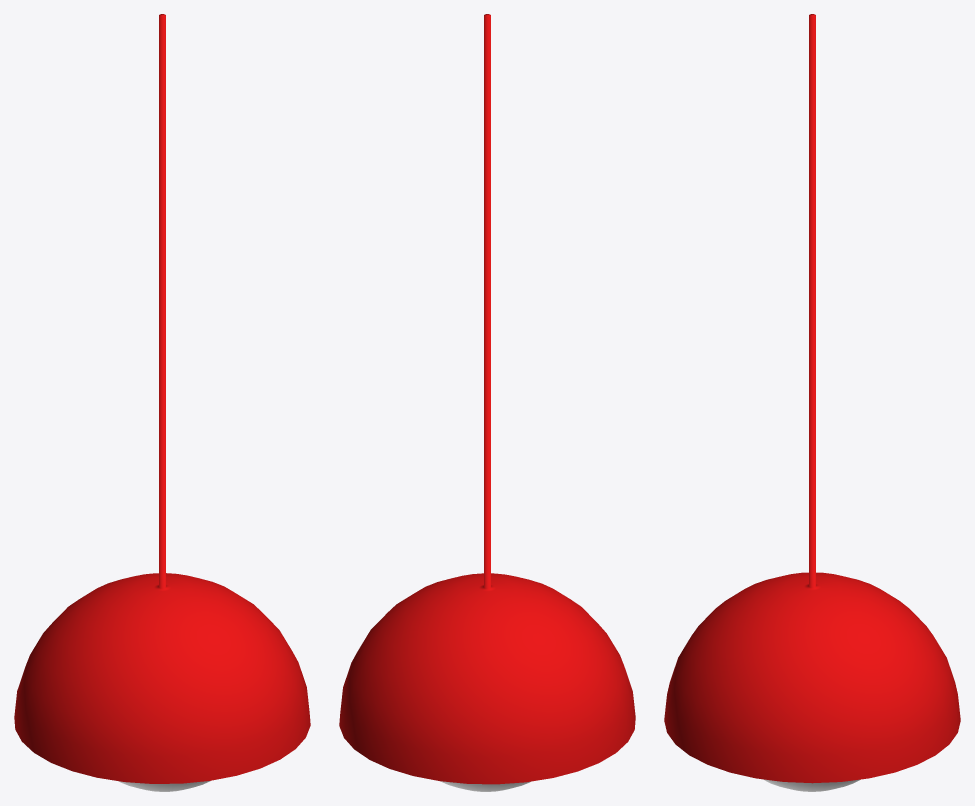
Rendered from Lampara.fbx.
3 views of the same model, side by side, from view 1: azimuth 30°, elevation 25°; view 2: azimuth 150°, elevation 25°; view 3: azimuth 270°, elevation 25° (orthographic).
Parts seen in each view (by area): view 1: Esfera.009, Esfera.010; view 2: Esfera.009; view 3: Esfera.009, Esfera.010.
Part boxes in pixels (x1,y1,x2,y2): Esfera.009: (14,14,310,783); Esfera.010: (119,780,210,791); Esfera.009: (339,14,635,784); Esfera.009: (664,14,960,783); Esfera.010: (763,779,860,791).
Size of the model in its own units: 136 by 388 by 136.
